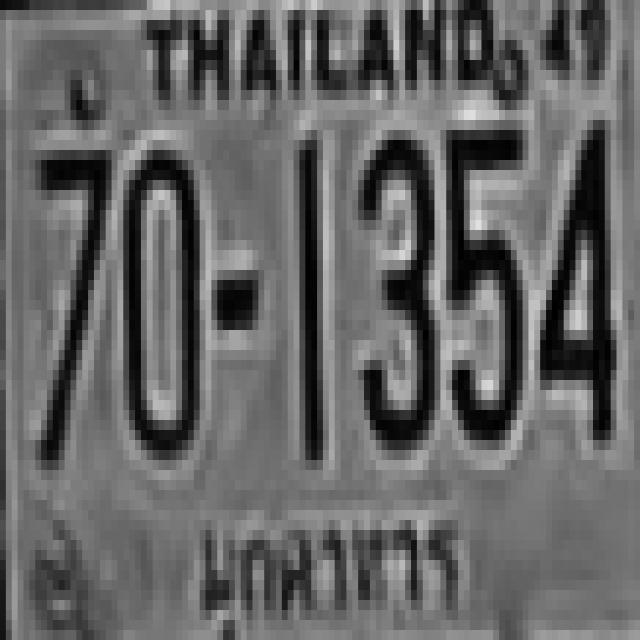0: (120, 140, 197, 450)
1: (297, 135, 320, 455)
3: (355, 135, 432, 445)
4: (534, 110, 611, 440)
5: (443, 120, 520, 440)
7: (32, 140, 109, 460)
Mukdahan: (191, 500, 475, 640)
